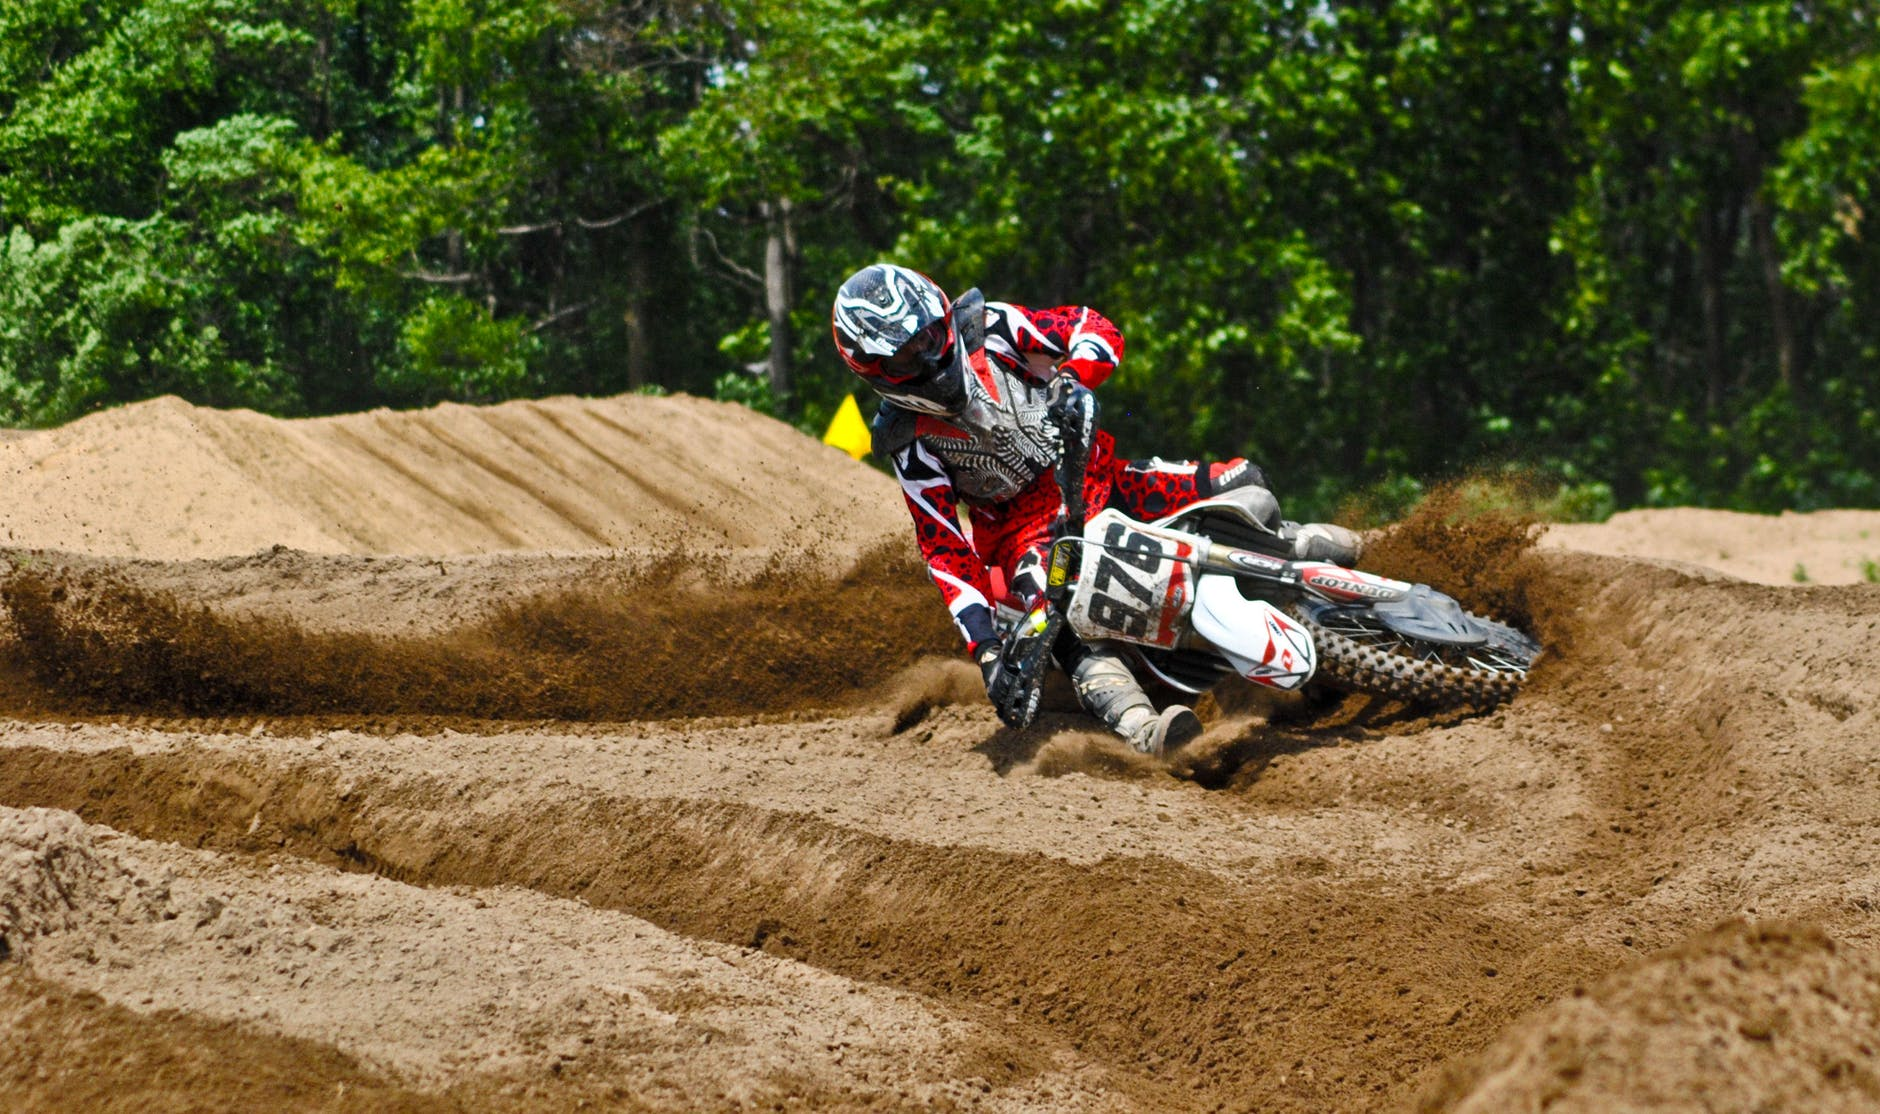helmet: (830, 267, 970, 407)
